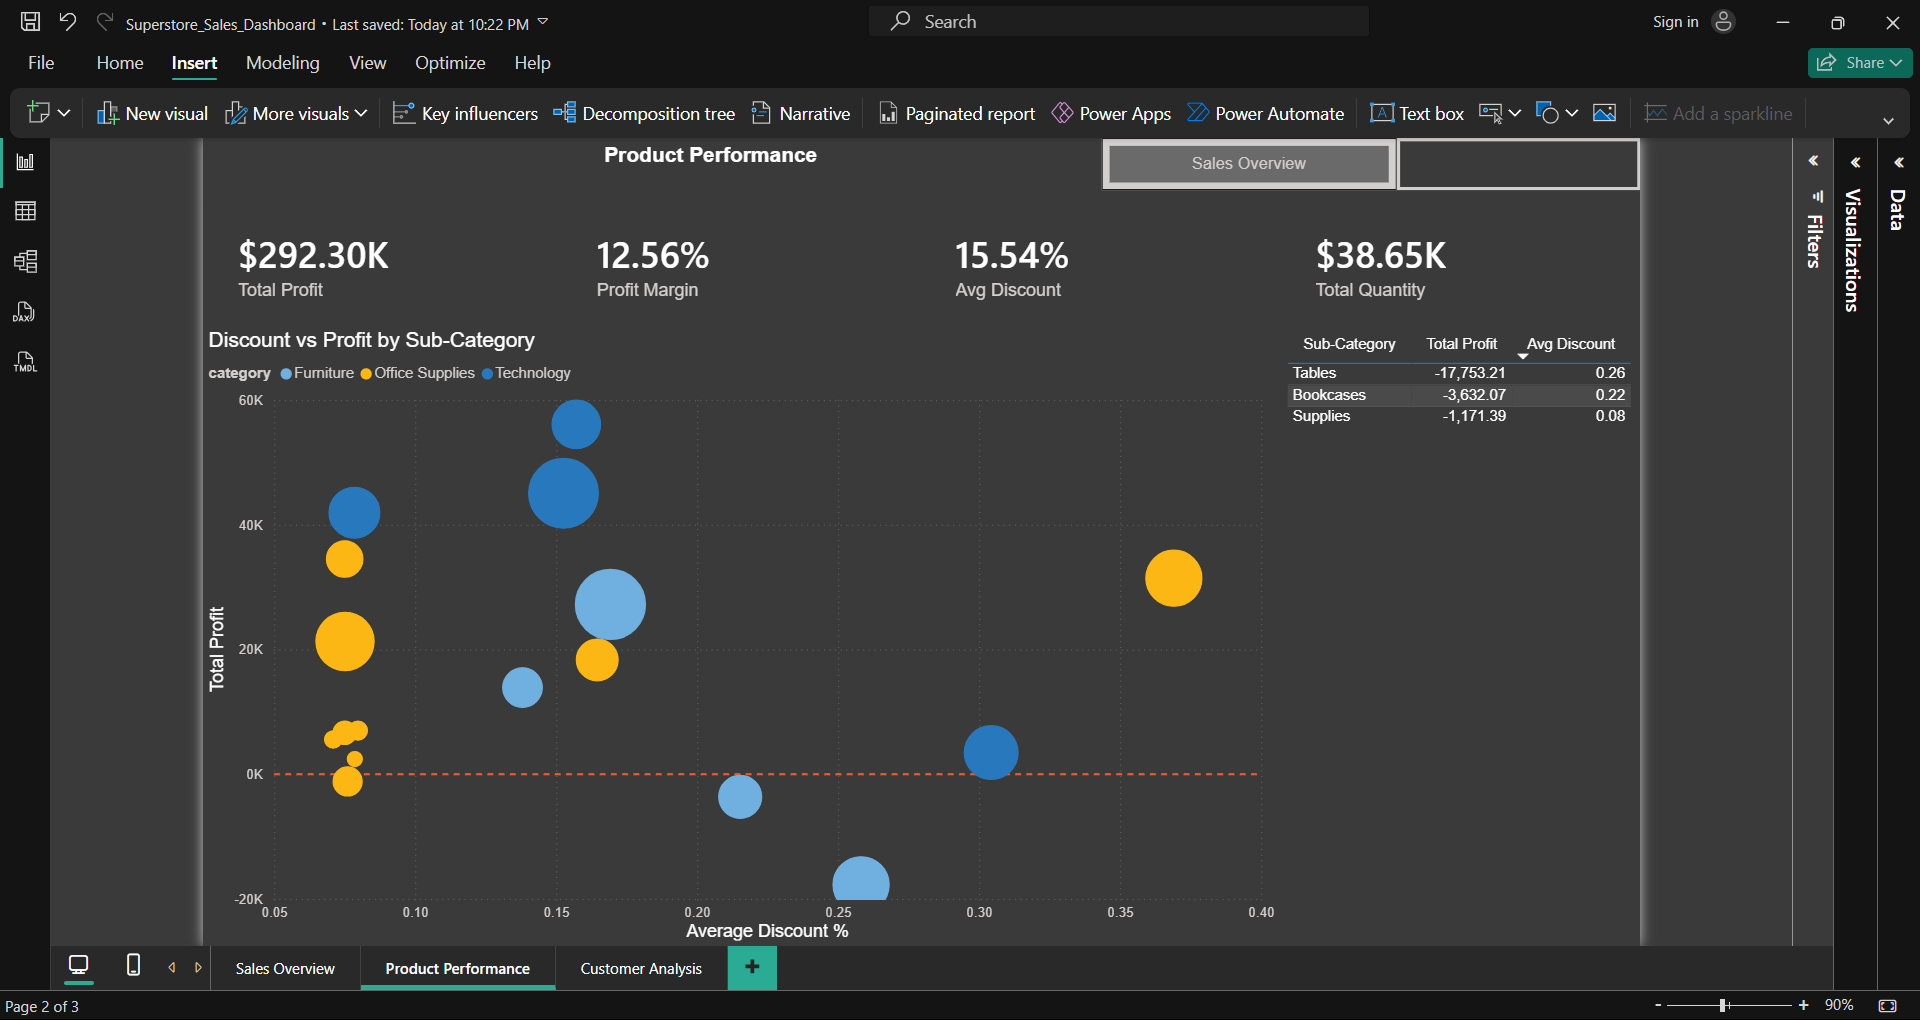

The page's visual inventory and layout, read from the dashboard file:
{"tool":"powerbi","page":{"name":"Product Performance","canvas":[1280,720],"ordinal":1},"visuals":[{"type":"cardVisual","fields":{"Data":["Orders.Total Profit"]},"box":[1.2,56.4,319.7,112],"z":0},{"type":"scatterChart","title":"Discount vs Profit by Sub-Category","fields":{"X":["Orders.Avg_discount"],"Y":["Orders.Total Profit"],"Category":["Orders.sub_category"],"Size":["Orders.Total Sales"],"Series":["Orders.category"]},"box":[0,169.3,959.5,550.9],"z":0},{"type":"textbox","box":[0,0,904.3,32.9],"z":1000},{"type":"cardVisual","fields":{"Data":["Orders.Profit Margin"]},"box":[320.9,56.4,319.7,112],"z":1000},{"type":"actionButton","title":"Sales Overview","box":[800,0,262.6,46.6],"z":2000},{"type":"cardVisual","fields":{"Data":["Orders.Avg_discount"]},"box":[640.6,56.4,319.7,112],"z":2000},{"type":"cardVisual","fields":{"Data":["Orders.Total Quantity"]},"box":[960.3,56.4,319.7,112],"z":3000},{"type":"tableEx","fields":{"Values":["Orders.sub_category","Orders.Total Profit","Orders.Avg_discount"]},"box":[959.5,169.3,319,122.7],"z":4000},{"type":"actionButton","title":"Customer Analysis","box":[1062.6,0,217.2,46.6],"z":4001}]}

Visuals, with their boxes on the page's 1280x720 design canvas (x1, y1, x2, y2). These are canvas units, not pixel positions in the 1920x1020 screenshot, which may show the page scaled, cropped or inside an application window:
cardVisual - Orders.Total Profit: BBox(1, 56, 321, 168)
"Discount vs Profit by Sub-Category" scatterChart: BBox(0, 169, 960, 720)
textbox: BBox(0, 0, 904, 33)
cardVisual - Orders.Profit Margin: BBox(321, 56, 641, 168)
"Sales Overview" actionButton: BBox(800, 0, 1063, 47)
cardVisual - Orders.Avg_discount: BBox(641, 56, 960, 168)
cardVisual - Orders.Total Quantity: BBox(960, 56, 1280, 168)
tableEx - Orders.sub_category x Orders.Total Profit: BBox(960, 169, 1278, 292)
"Customer Analysis" actionButton: BBox(1063, 0, 1280, 47)
